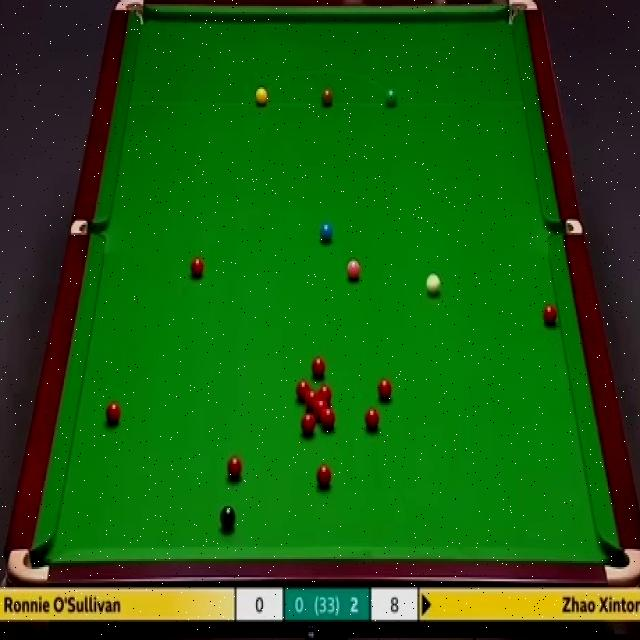black-ball: (217, 504, 238, 532)
blue-ball: (320, 221, 333, 246)
brown-ball: (321, 87, 334, 106)
green-ball: (385, 88, 398, 106)
pink-ball: (346, 261, 362, 283)
red-ball: (316, 463, 333, 490), (295, 377, 312, 403), (103, 399, 120, 425), (309, 356, 328, 379), (376, 378, 394, 401), (542, 304, 558, 329), (364, 408, 380, 432), (300, 412, 316, 436), (228, 456, 242, 482), (318, 385, 333, 409), (320, 410, 336, 432), (304, 391, 320, 412), (190, 259, 204, 277), (314, 401, 328, 418)
white-ball: (425, 270, 441, 298)
yellow-ball: (255, 87, 268, 106)
